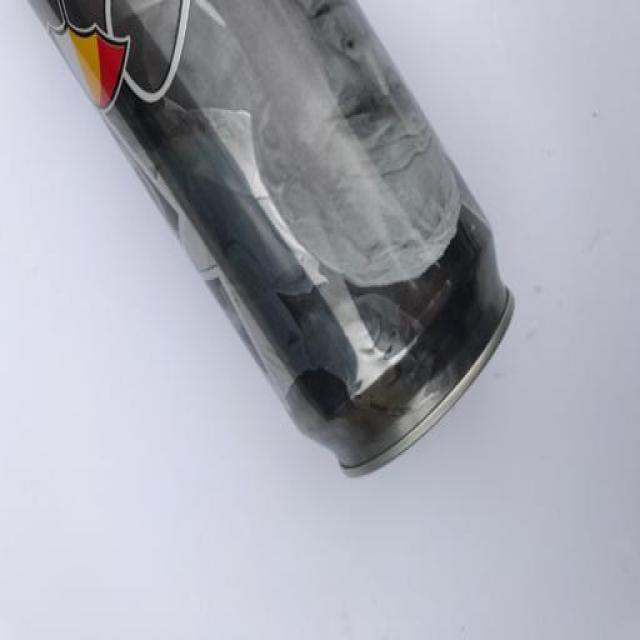metel: (1, 1, 559, 488)
